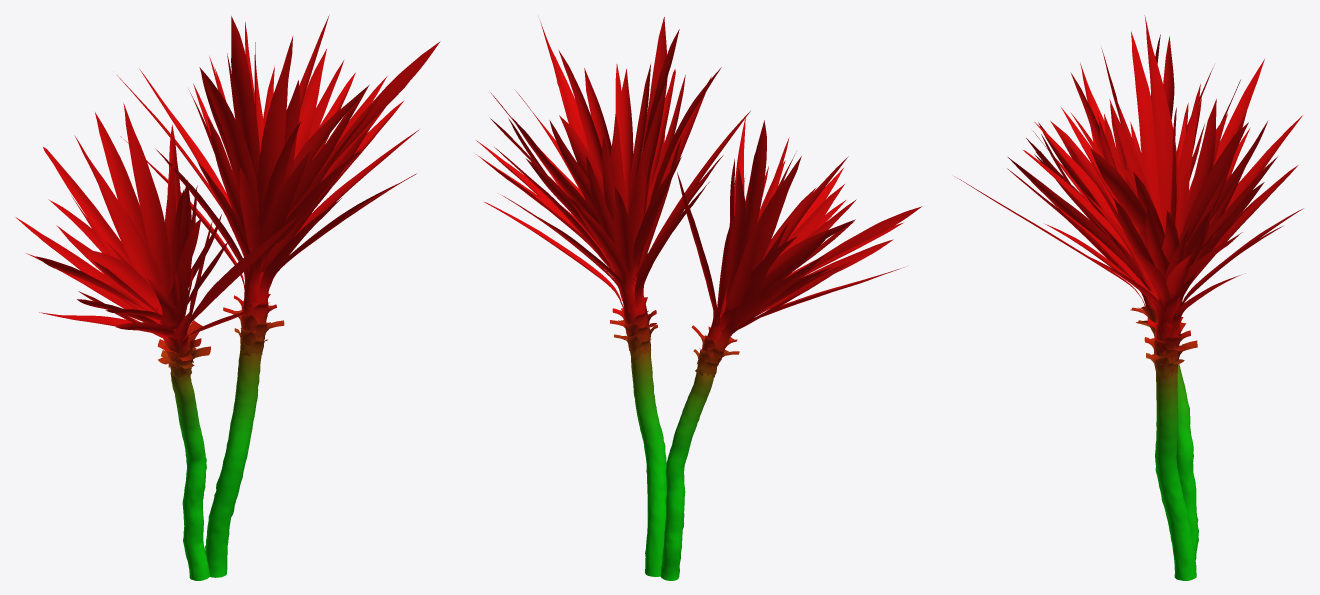
Rendered from Var7_LOD0.fbx.
3 renders of one model, left to right at view 1: azimuth 30°, elevation 25°; view 2: azimuth 150°, elevation 25°; view 3: azimuth 270°, elevation 25°, orthographic. The views are drawn at different scales.
Visible parts, largest first — view 1: _01ui_Var7_LOD0; view 2: _01ui_Var7_LOD0; view 3: _01ui_Var7_LOD0.
Boxes of the visible parts, x1,y1,x2,y2 form: _01ui_Var7_LOD0: (15, 15, 440, 580); _01ui_Var7_LOD0: (476, 17, 921, 580); _01ui_Var7_LOD0: (954, 15, 1303, 580).
Size of the model in its own units: 72.28 by 92.99 by 53.26.
